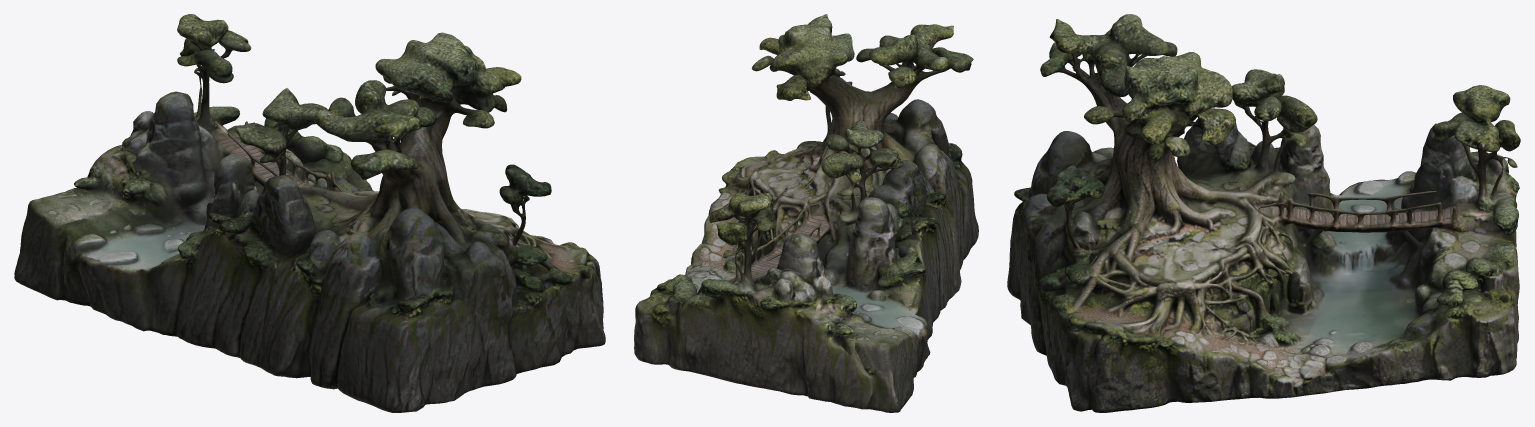
The model's file is forest.glb.
3 views of the same model, side by side, from view 1: azimuth 30°, elevation 25°; view 2: azimuth 150°, elevation 25°; view 3: azimuth 270°, elevation 25° (orthographic). The views are drawn at different scales.
Parts seen in each view (by area): view 1: tripo_node_1e7b326b; view 2: tripo_node_1e7b326b; view 3: tripo_node_1e7b326b.
Part boxes in pixels (x1,y1,x2,y2): tripo_node_1e7b326b: (14, 14, 605, 412); tripo_node_1e7b326b: (634, 14, 978, 412); tripo_node_1e7b326b: (1007, 14, 1520, 412).
Size of the model in its own units: 0.855 by 0.6093 by 0.9701.
1 material, 1 textured.
